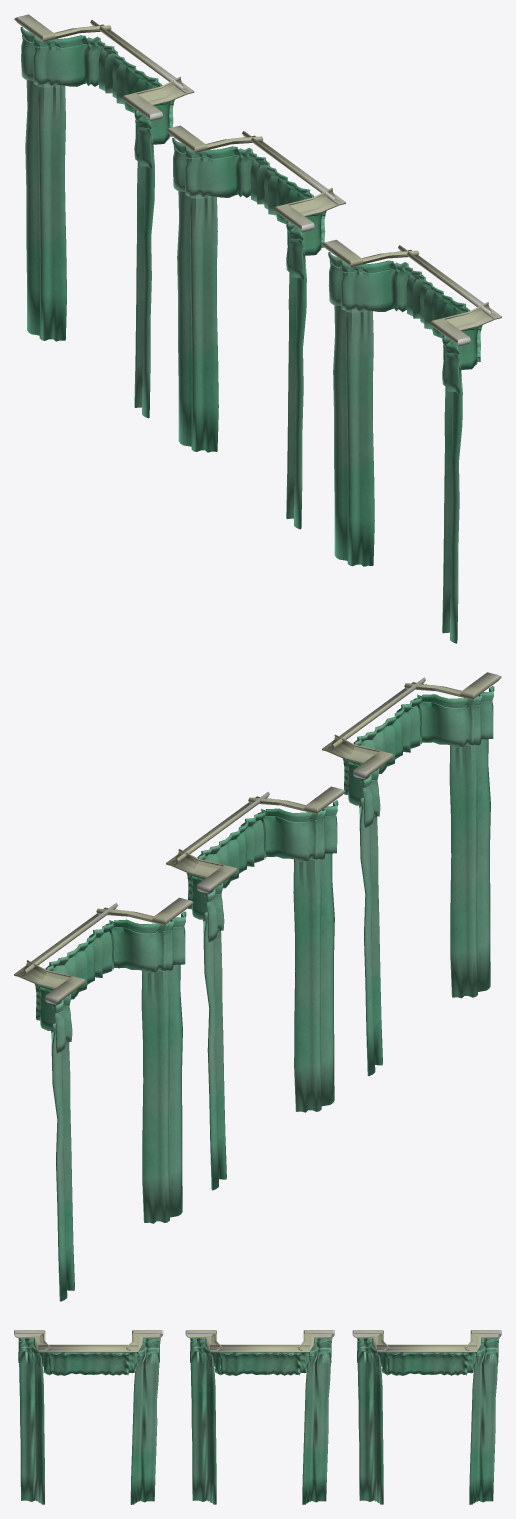
Rendered from curtains.fbx.
3 views of the same model, one above another, from view 1: azimuth 30°, elevation 25°; view 2: azimuth 150°, elevation 25°; view 3: azimuth 270°, elevation 25° (orthographic). The views are drawn at different scales.
Visible parts, largest first — view 1: window_curtains.001; view 2: window_curtains.001; view 3: window_curtains.001.
Boxes of the visible parts, left/top/right/bottom form: window_curtains.001: left=14, top=14, right=501, bottom=643; window_curtains.001: left=14, top=672, right=501, bottom=1301; window_curtains.001: left=14, top=1330, right=501, bottom=1504.
Bounding box in the file's own units: 76.74 × 331 × 861.
1 material, 1 textured.
